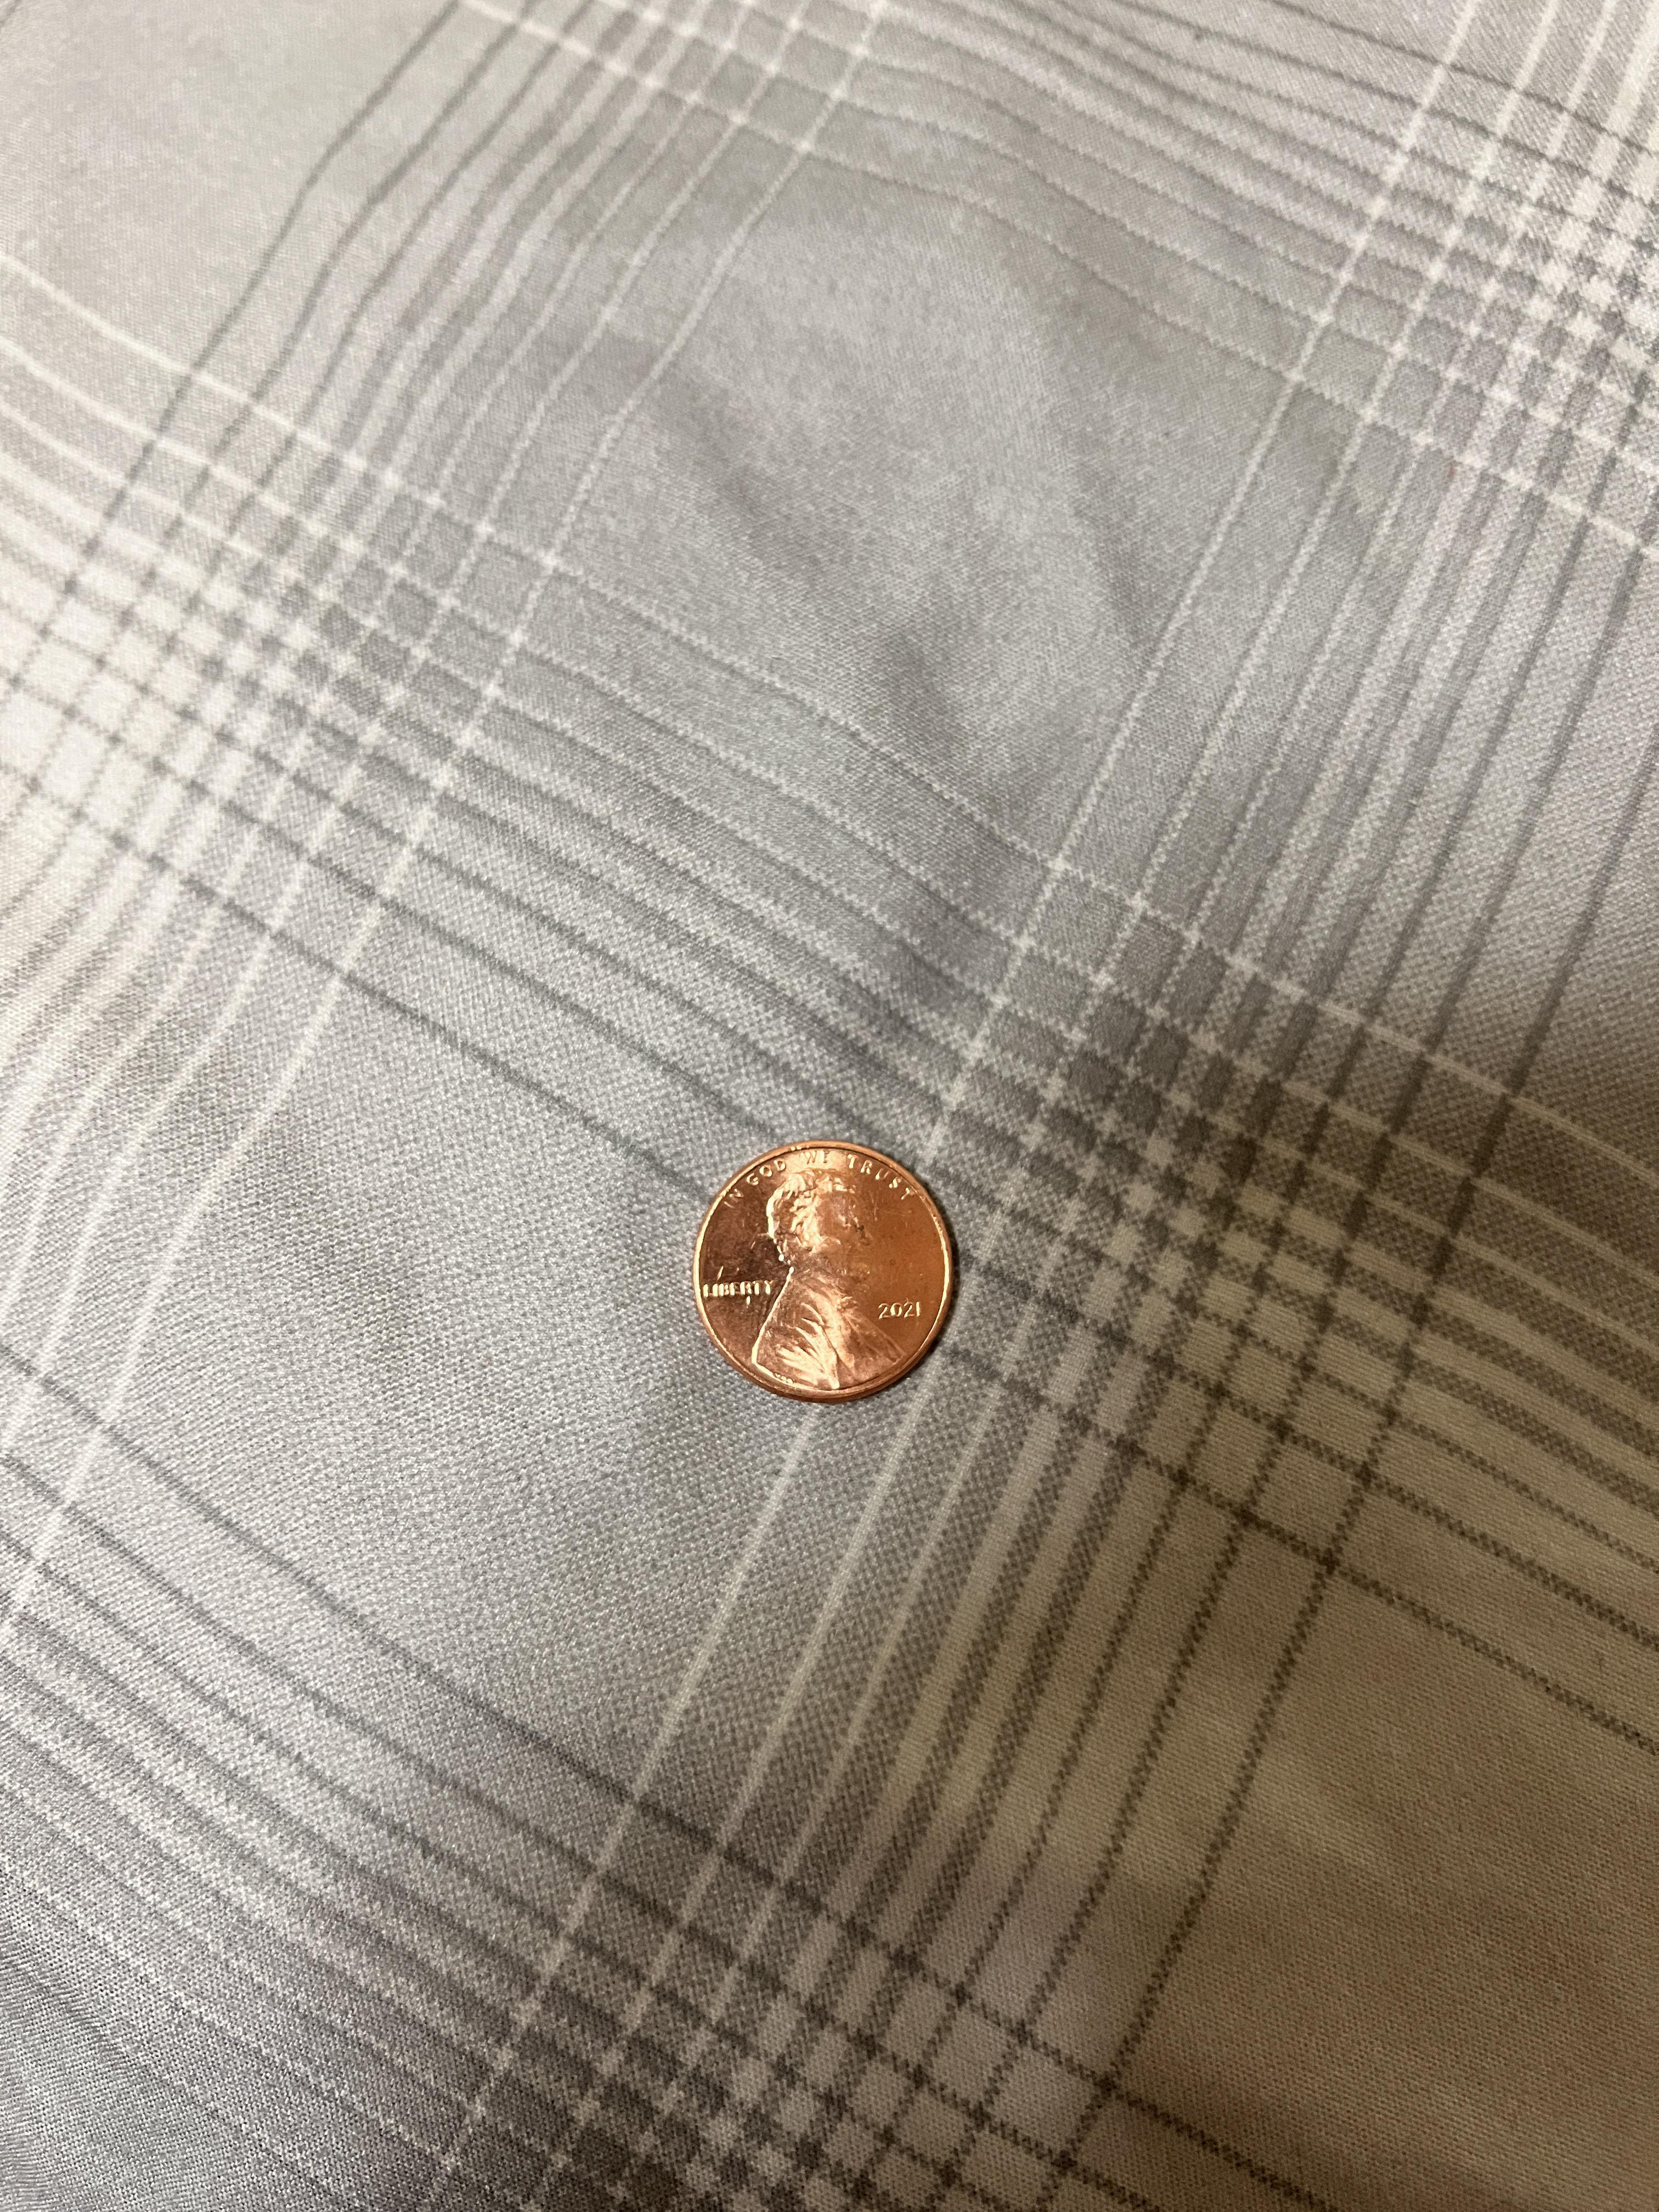Penny: (683, 1137, 957, 1414)
